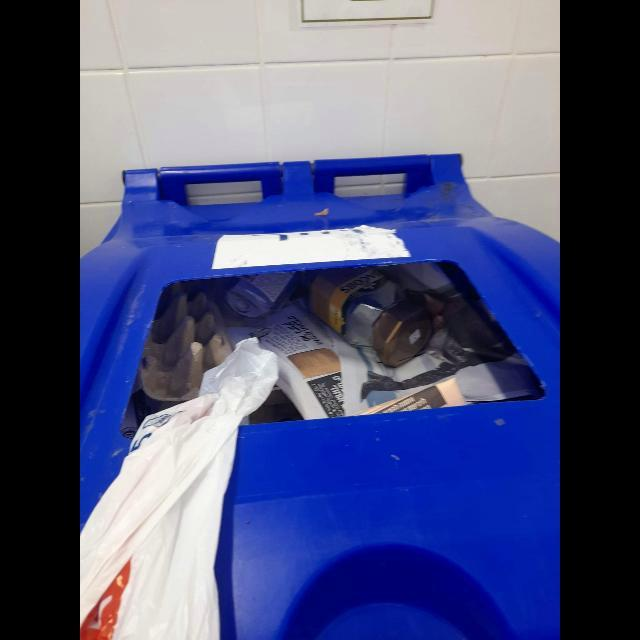paper: (225, 305, 538, 420)
plastic_bag: (80, 338, 279, 640)
plastic_bottle: (298, 267, 432, 368), (207, 272, 299, 326)
